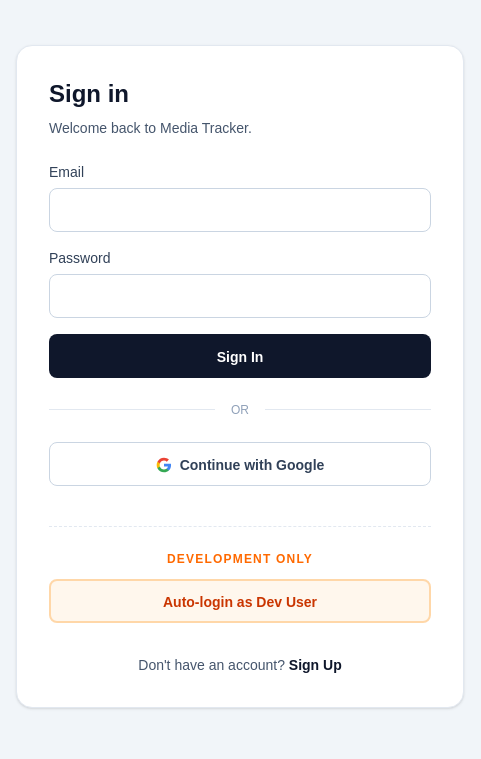
Authentication lifecycle › should show validation errors on the sign-in page
Click the submit button at coordinates (240, 356), box [49, 334, 431, 378]
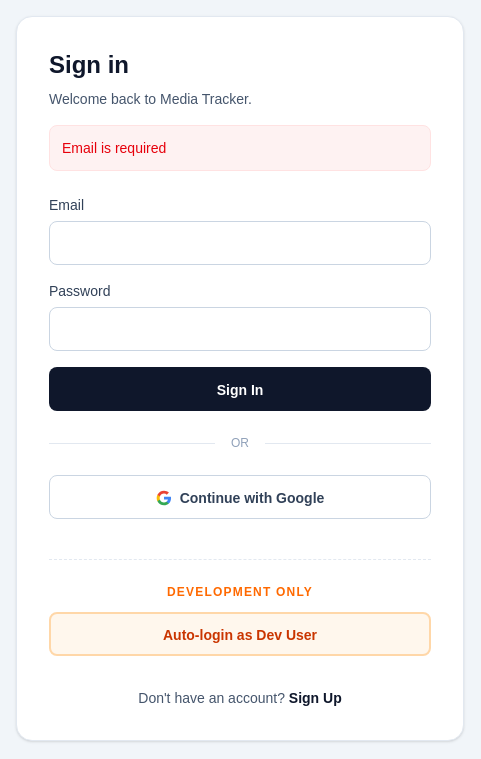
Now the text "Email is required" is shown, box [49, 125, 431, 171]
Type "invalid-email" into the field with id "email" at coordinates (240, 243), box [49, 221, 431, 265]
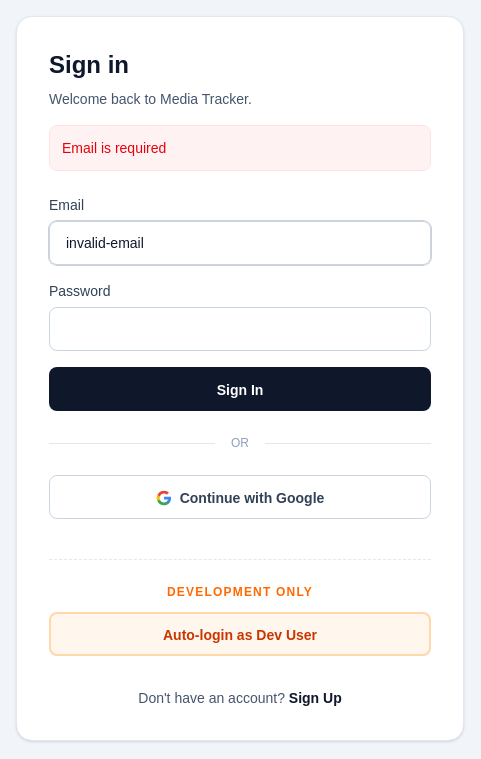
Type "pwd" into the password field labelled "Password" at coordinates (240, 329), box [49, 307, 431, 351]
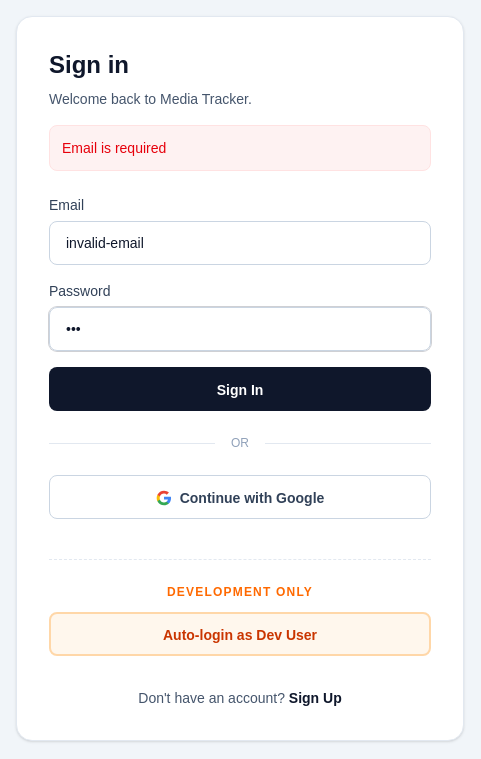
Click the submit button at coordinates (240, 389), box [49, 367, 431, 411]
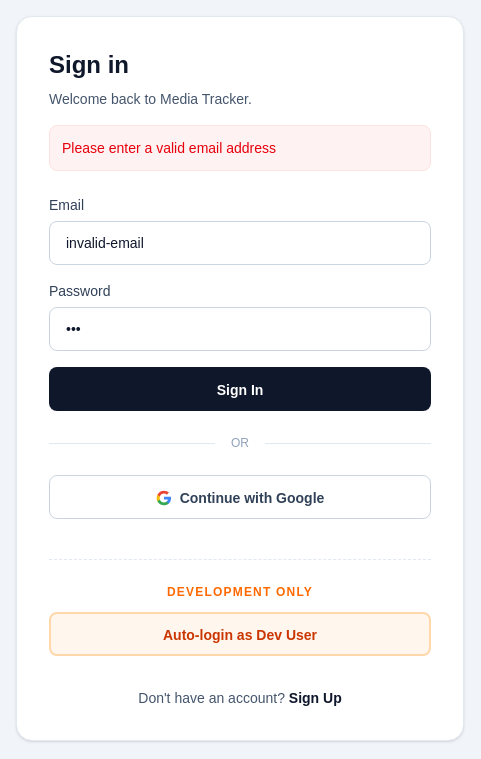
Now the text "Please enter a valid email address" is shown, box [49, 125, 431, 171]
